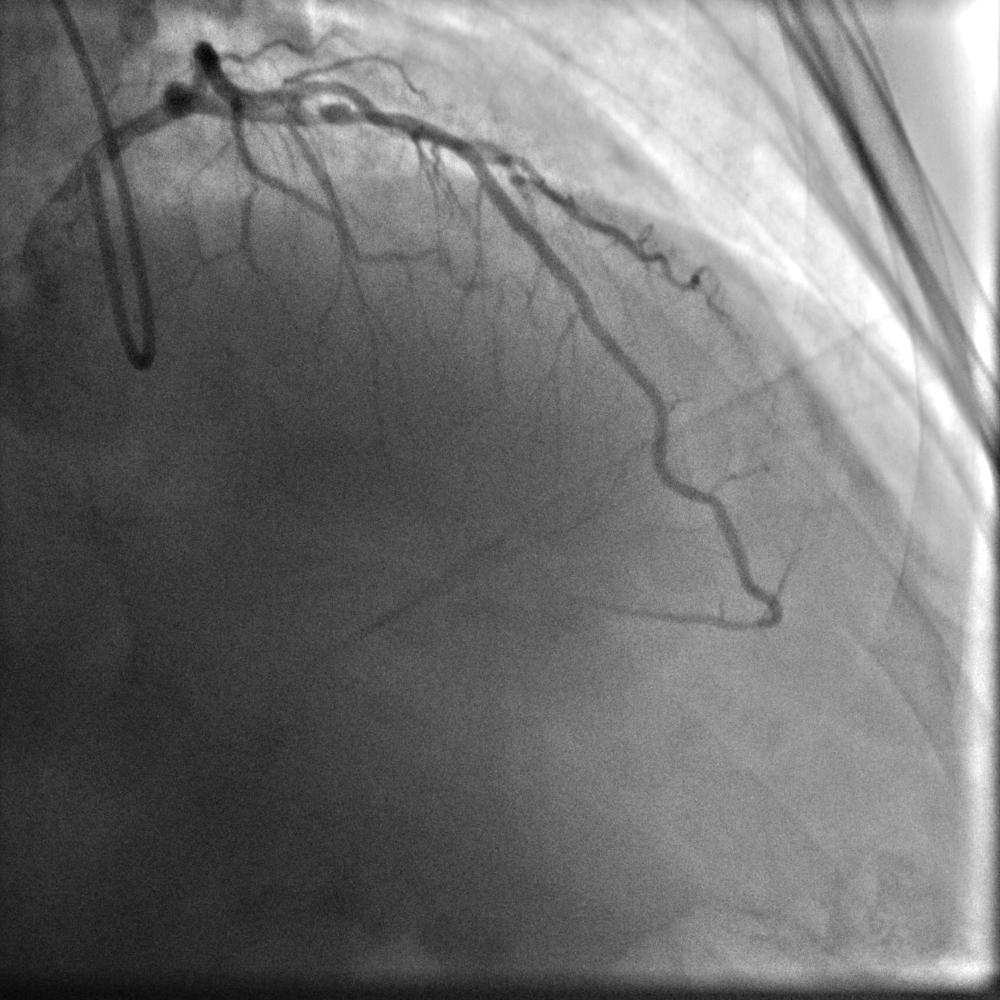Stenosis: (297, 104, 332, 127)
